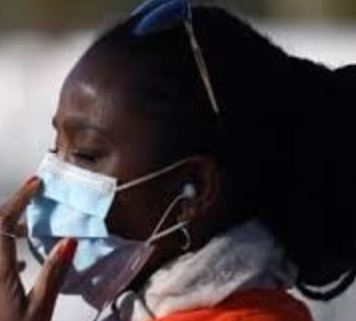with_facemask: (19, 133, 152, 290)
